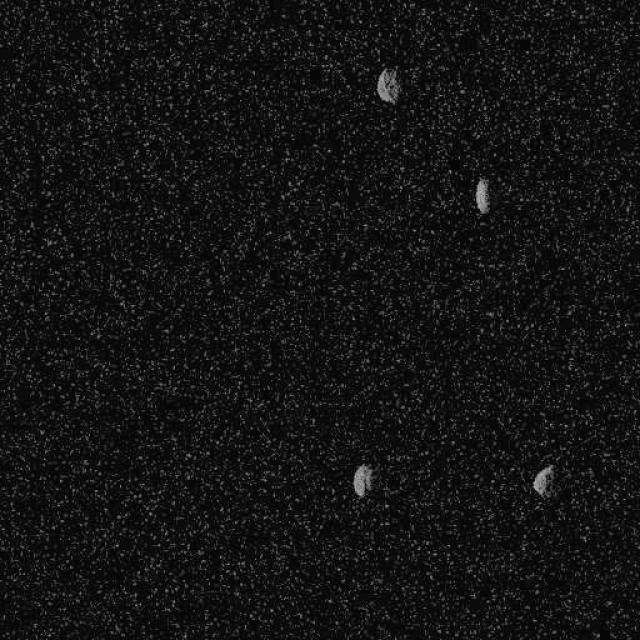D2: (375, 66, 401, 105), (531, 463, 555, 498), (351, 462, 374, 498), (474, 176, 490, 214)
